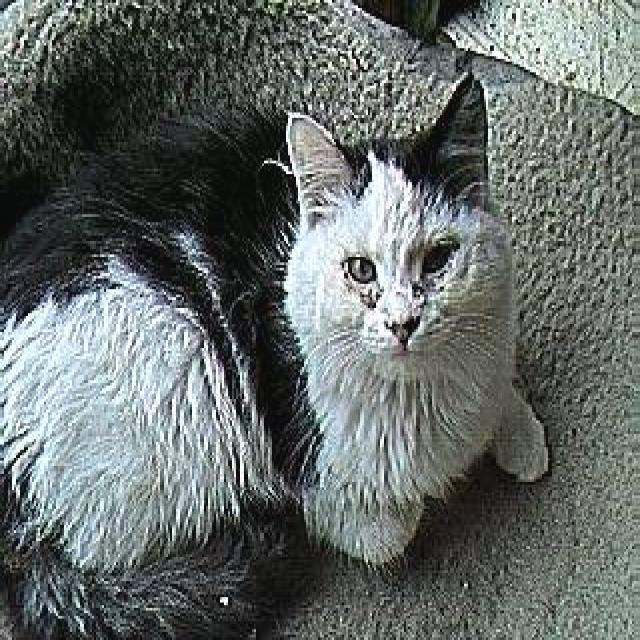Kucing: (0, 40, 588, 640)
